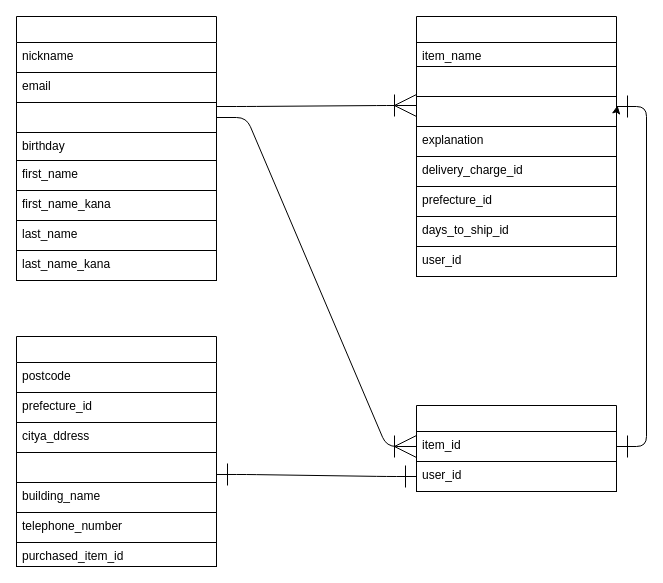
Some shapes in this 663 by 583 pixel diagram are drawn without their labels. Here are the shapes that lost their labels. From the top down, the box of each, then its label:
(416, 16, 616, 66): items
(16, 16, 216, 132): users
(416, 66, 616, 96): category_id
(16, 102, 216, 132): password
(416, 96, 616, 126): status_id
(16, 336, 216, 482): shipping_items
(416, 404, 616, 462): purchased_items
(16, 452, 216, 482): street_address
